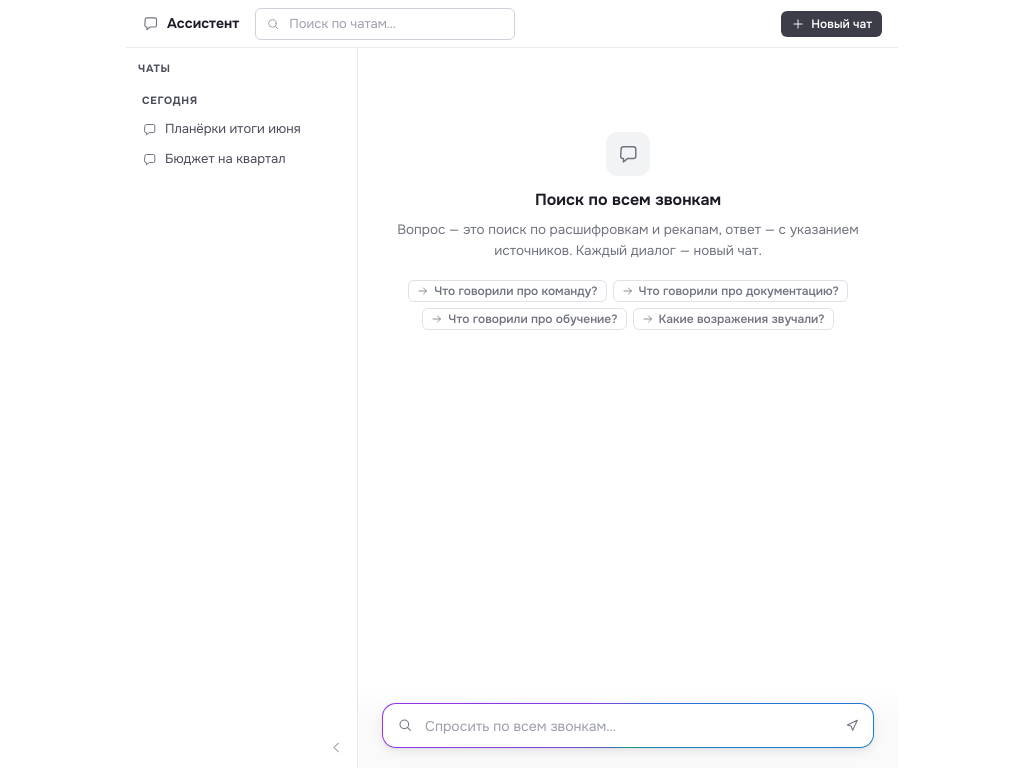
Test: панель чатов › fuzzy-поиск фильтрует чаты, Esc сбрасывает
Check: the text "Бюджет на квартал" is shown, box [165,150,286,167]
Type "плнрк" into the field labelled "Поиск по чатам…" at (396, 24), box [287,13,504,34]
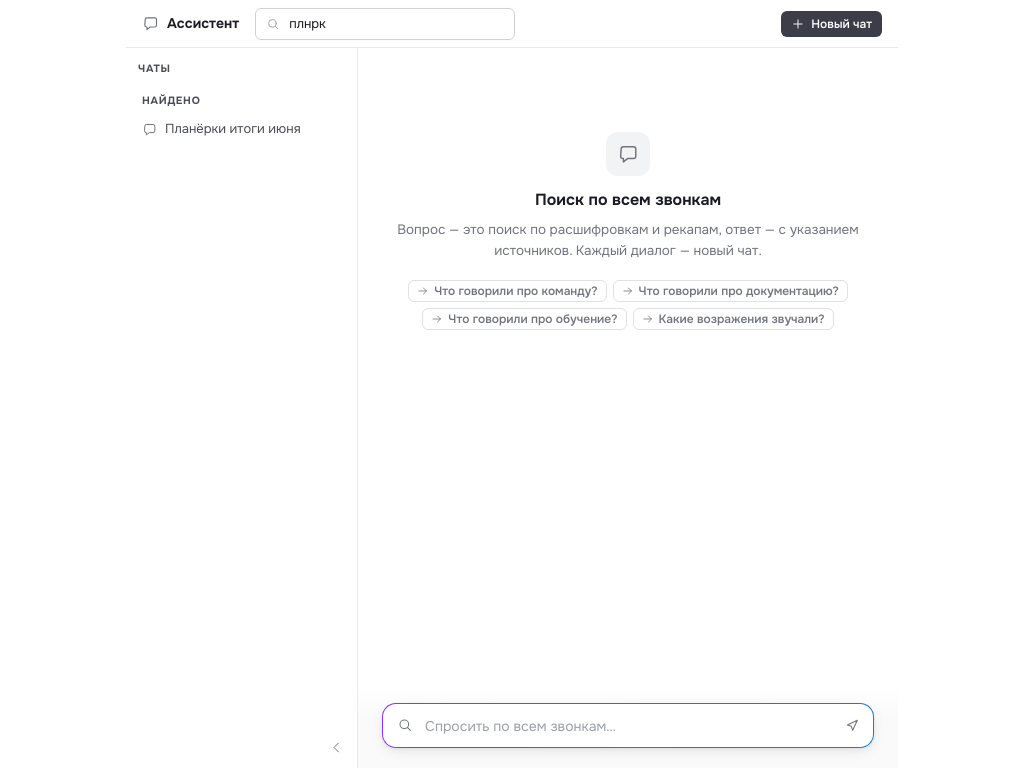
Check: the text "Планёрки итоги июня" is shown, box [165,119,307,139]
Check: the button "Бюджет на квартал" is gone
Replace the text in the field named "Поиск по чатам…" with "qqqq" at (396, 24), box [287,13,504,34]
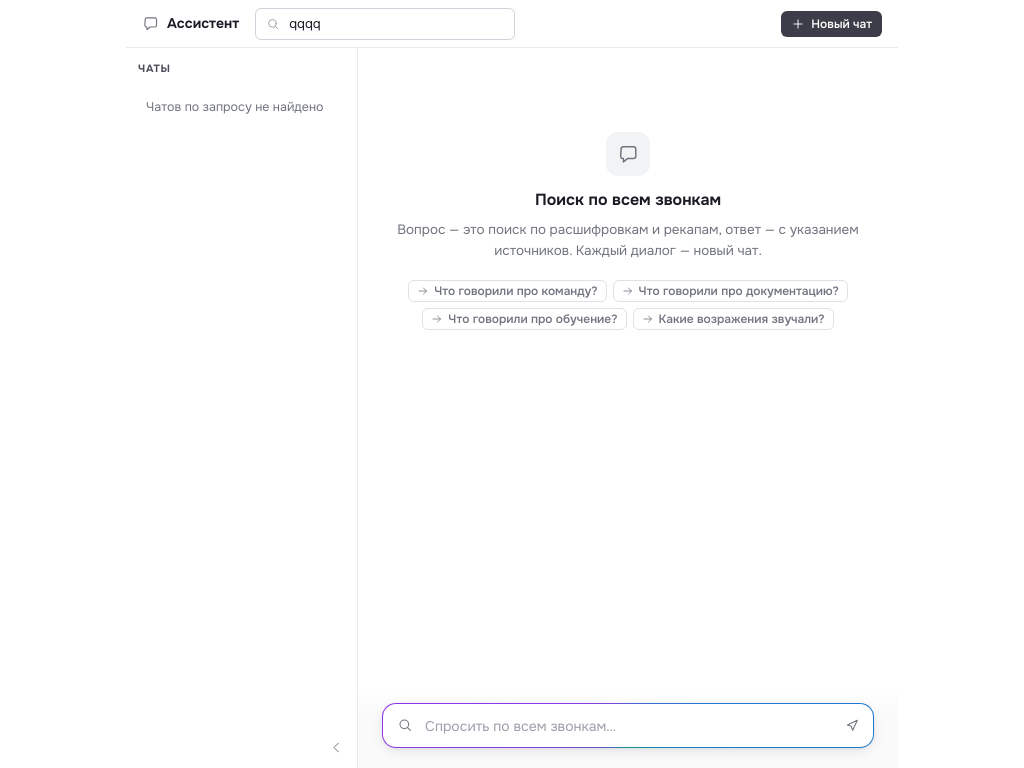
Check: the text "Чатов по запросу не найдено" is shown, box [146,99,324,115]
Press Escape in the field named "Поиск по чатам…", box [287,13,504,34]
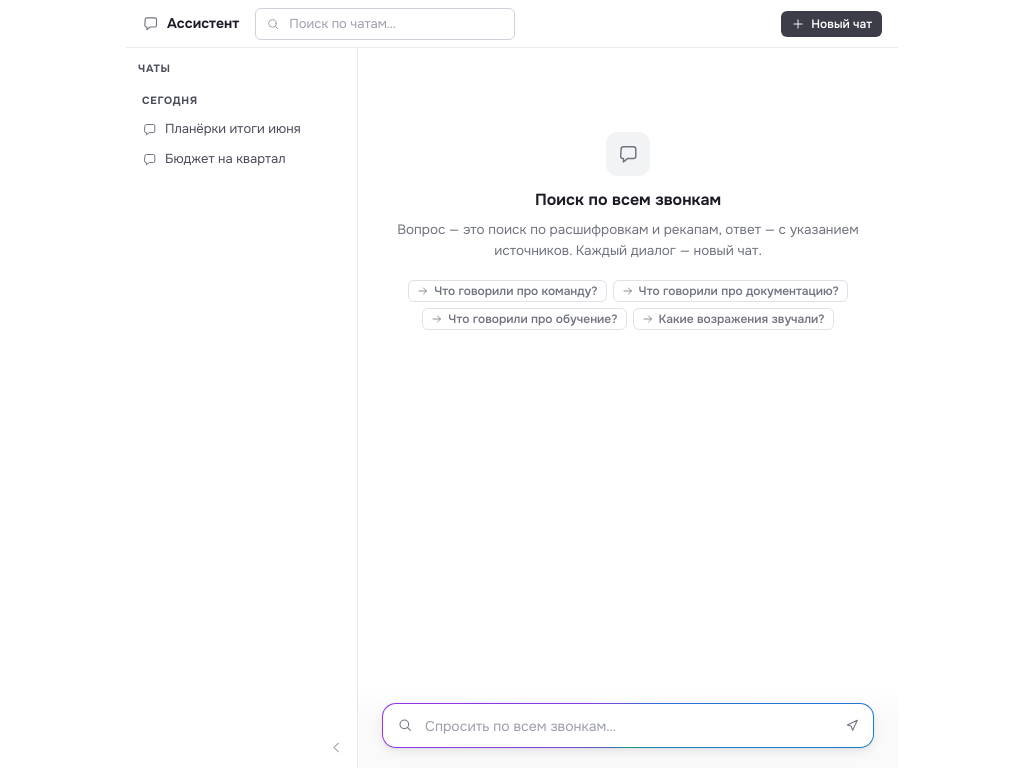
Check: the text "Бюджет на квартал" is shown, box [165,150,286,167]
